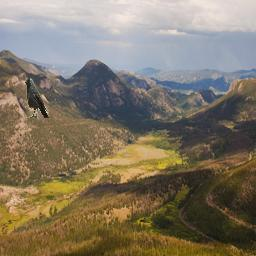Crow: (25, 78, 49, 118)
